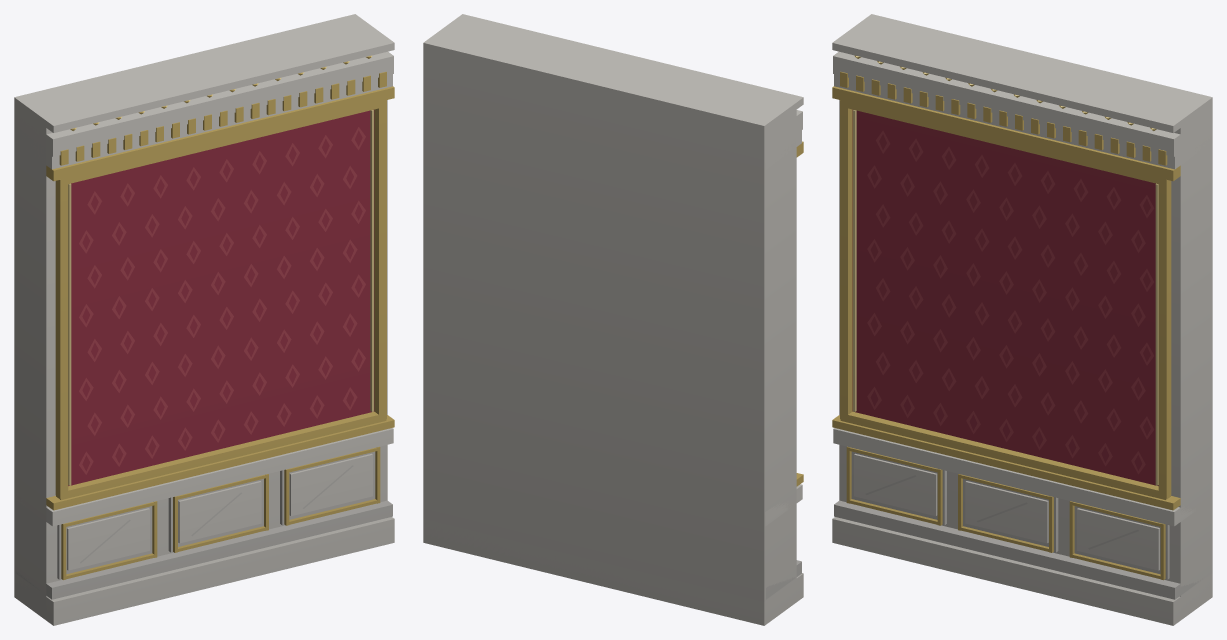
Rendered from palace_wall_royal.glb.
3 views of the same model, side by side, from view 1: azimuth 30°, elevation 25°; view 2: azimuth 150°, elevation 25°; view 3: azimuth 330°, elevation 25° (orthographic).
Parts seen in each view (by area): view 1: palace_wall_royal; view 2: palace_wall_royal; view 3: palace_wall_royal.
Part boxes in pixels (bbox=[...]): palace_wall_royal: bbox=[14, 14, 394, 625]; palace_wall_royal: bbox=[423, 14, 803, 625]; palace_wall_royal: bbox=[832, 14, 1212, 625].
Size of the model in its own units: 3 by 4.2 by 0.6.
